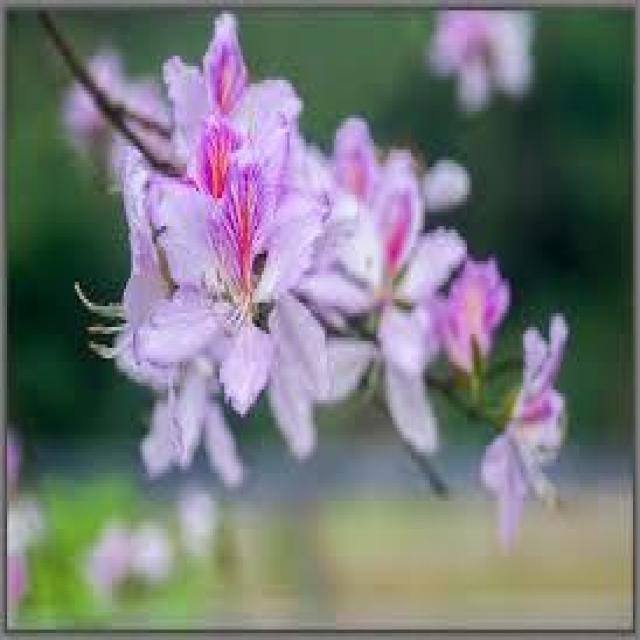organic waste: (128, 26, 306, 409), (488, 308, 575, 548)
